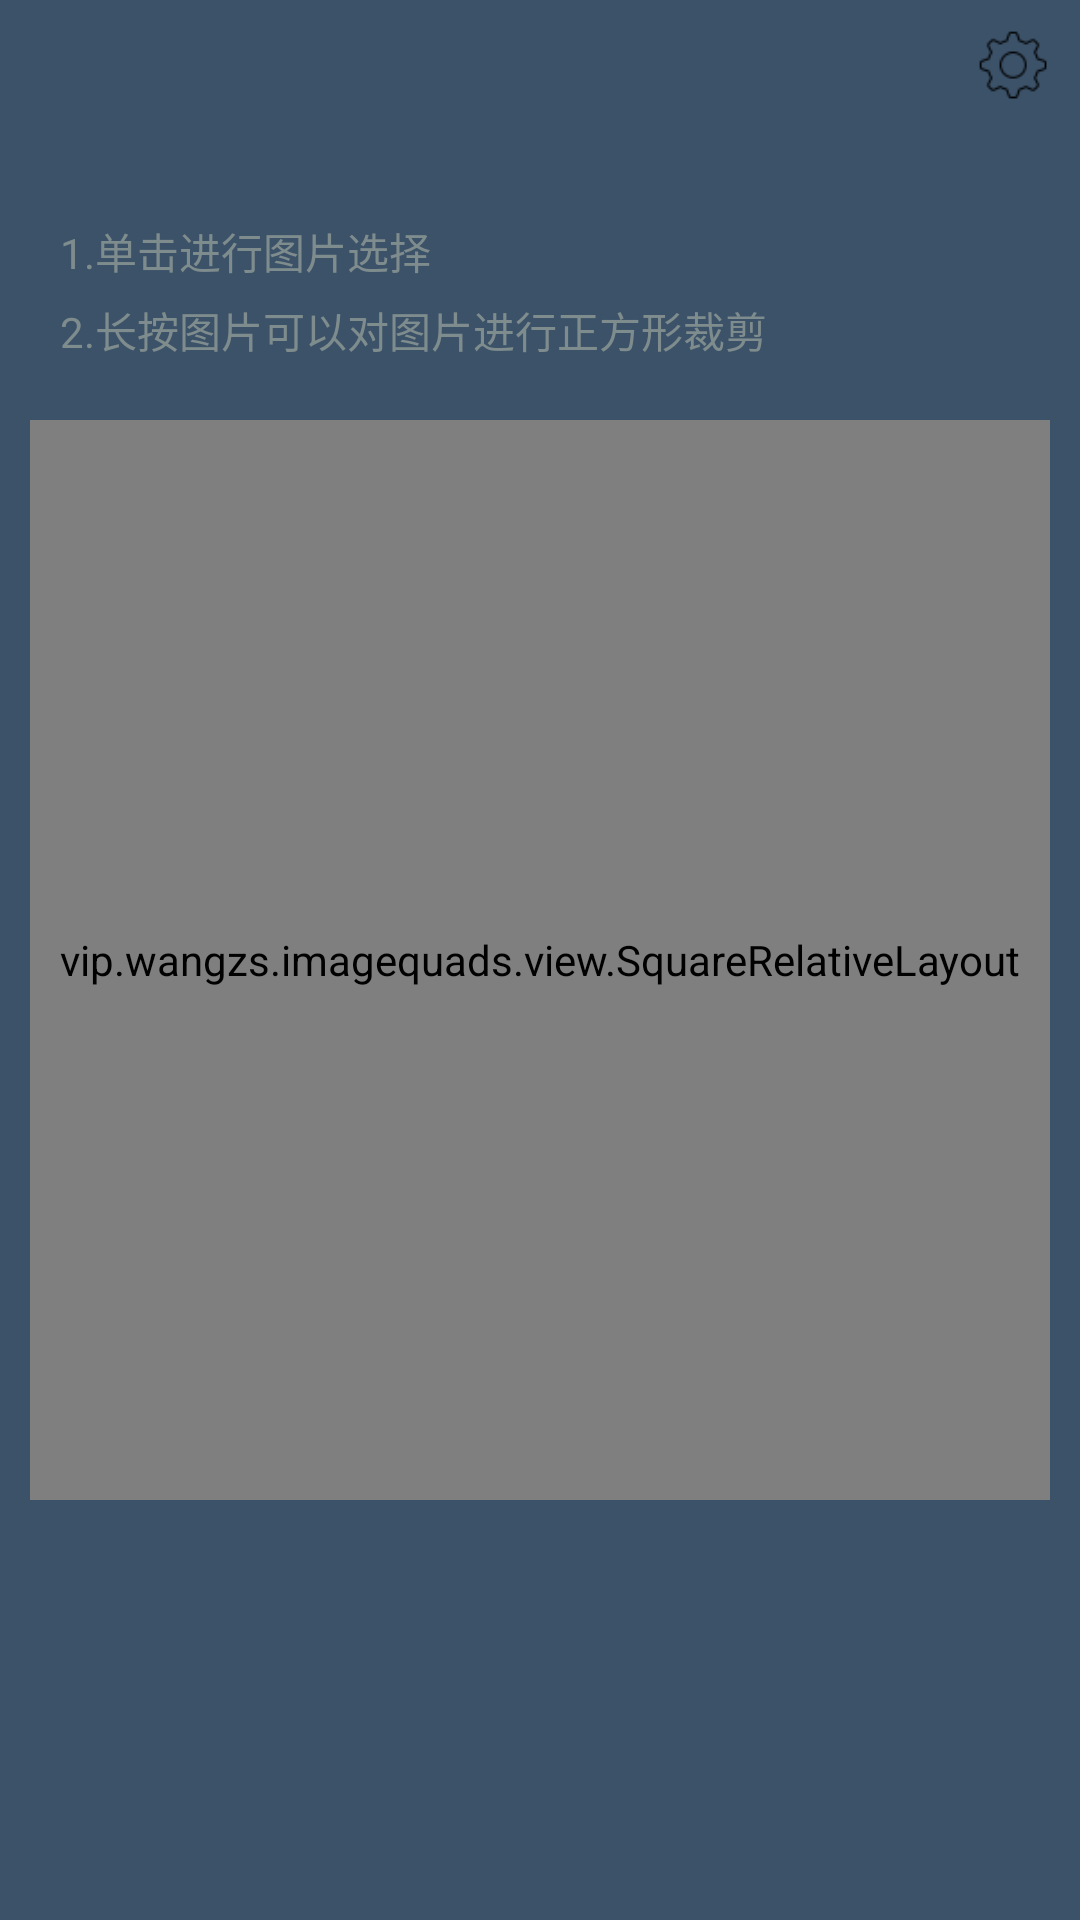

Icon click points for this 1080 × 1920 phone screenshot, format (x,y):
config app: (1013,65)
